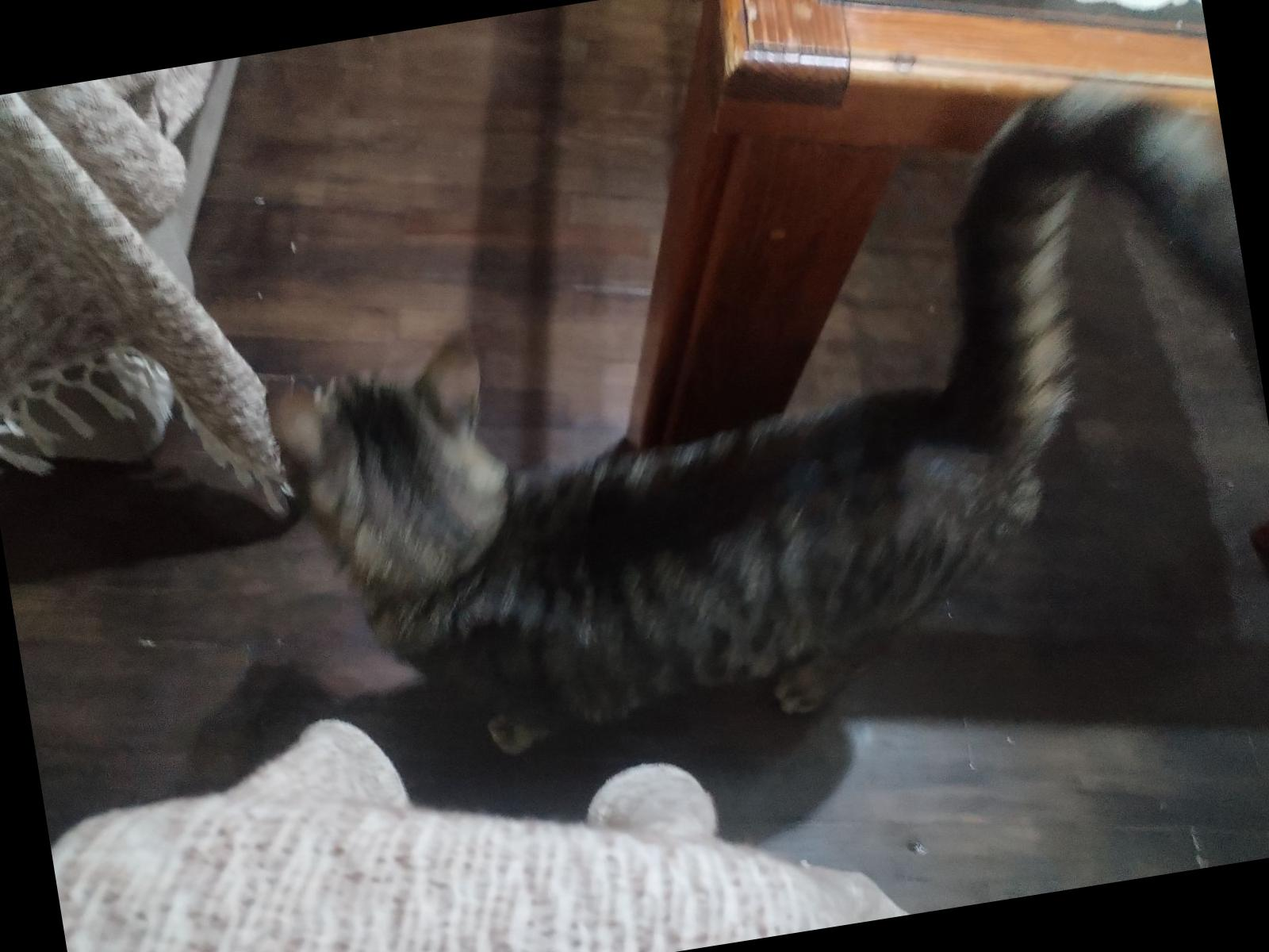macka: (226, 52, 1269, 799)
